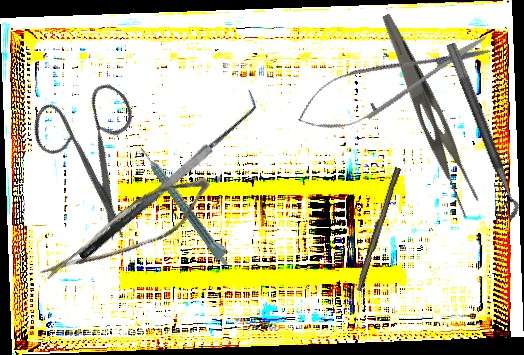Dressing Forceps: (360, 12, 492, 220)
Fixation Ring: (431, 41, 523, 226)
Handpiece: (137, 142, 235, 268)
Iris Scissors: (2, 60, 193, 246)
Micro Scissor: (38, 149, 219, 317), (288, 19, 499, 145)
Scalpel Handle: (353, 165, 402, 293)
Spatula Surgical: (65, 89, 269, 263)
